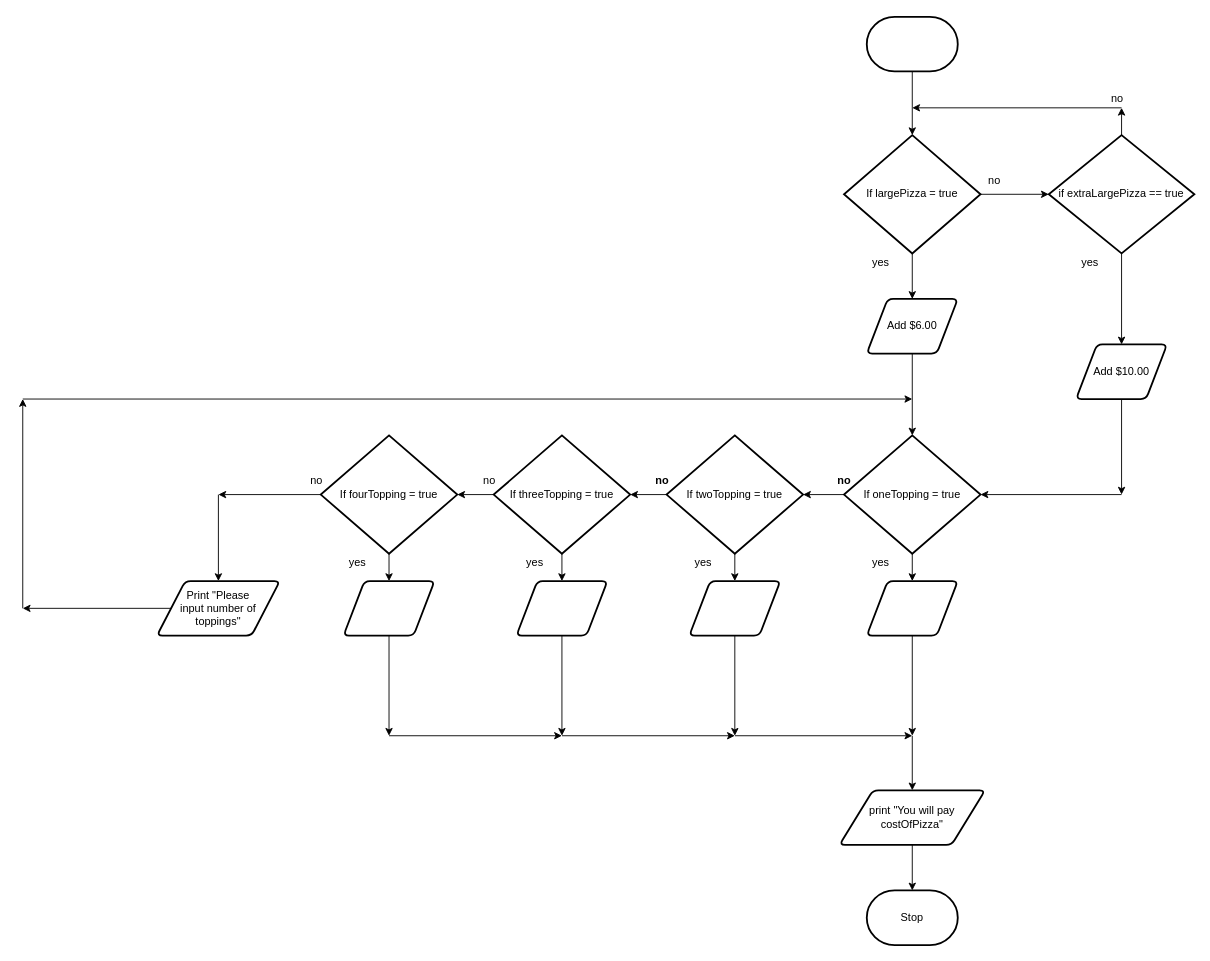
Image size: 1210x961. Some labels were removed from this diagram. Each missing label, with the centre of its shape:
"Add $1.00" belongs at point (911, 608).
"Add $1.75" belongs at point (734, 608).
"Add $2.50" belongs at point (561, 608).
"Add $3.35" belongs at point (388, 608).
"Start" belongs at point (911, 43).
